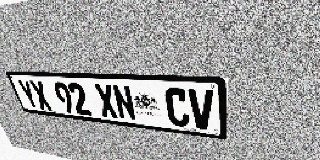2: (66, 82, 92, 115)
9: (52, 81, 77, 114)
C: (164, 87, 190, 127)
N: (111, 85, 137, 121)
V: (188, 88, 214, 130)
X: (93, 84, 119, 119), (29, 80, 53, 111)
Y: (16, 80, 41, 109)
